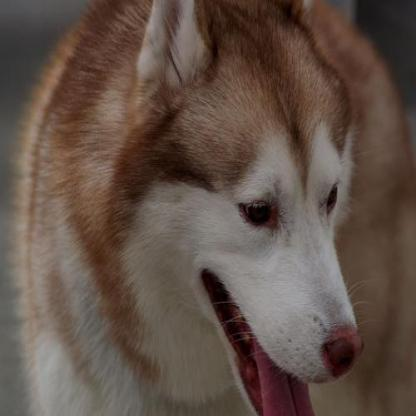Eskimo_dog: (0, 0, 414, 413)
